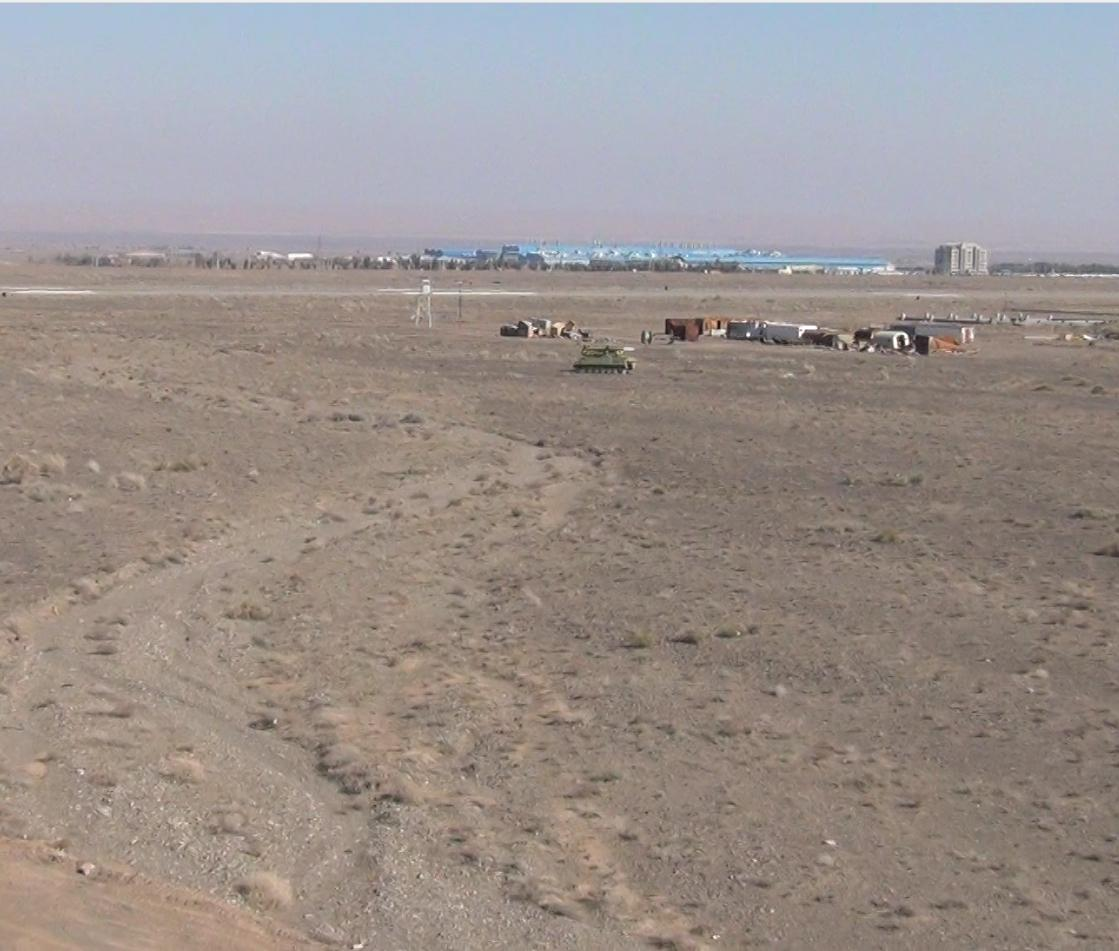armored_car: (568, 340, 641, 378)
